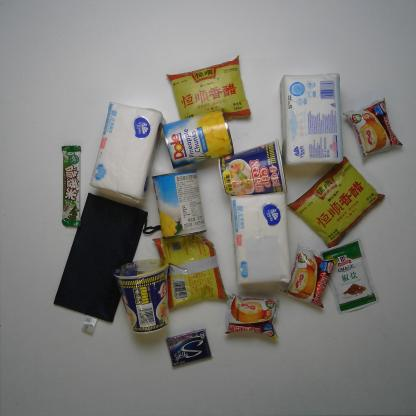Canned Food: (162, 108, 234, 170), (150, 168, 208, 240)
Chocolate: (61, 144, 82, 227)
Dessert: (342, 96, 404, 162), (280, 243, 340, 309), (223, 292, 280, 340)
Gum: (165, 328, 213, 369)
Instant Noodles: (112, 258, 170, 335), (218, 137, 288, 196)
Seasoner: (286, 156, 386, 249), (151, 233, 230, 310), (166, 54, 252, 121), (319, 237, 380, 315)
Stationery: (51, 192, 162, 336)
Tissue: (89, 102, 166, 202), (280, 72, 344, 167), (229, 191, 292, 286)
